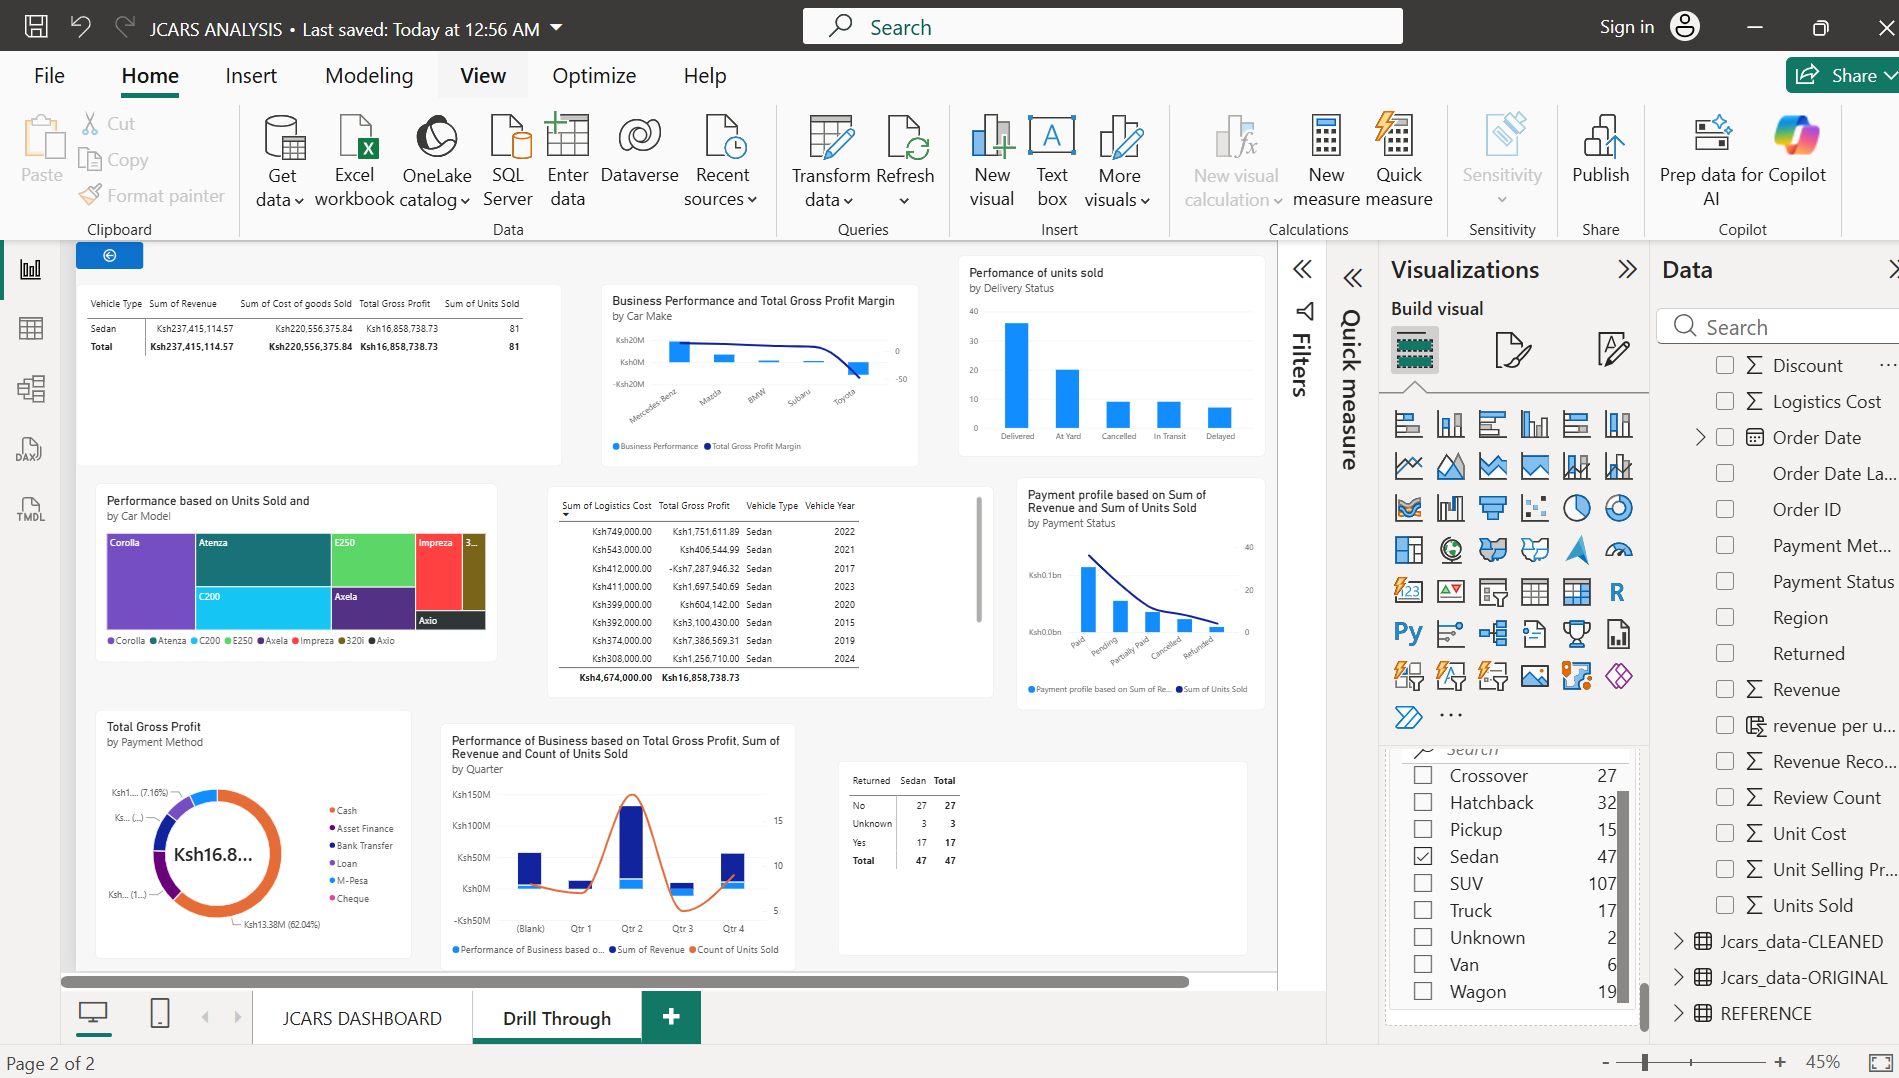

This screenshot's page, from the dashboard's own definition file:
{"tool":"powerbi","page":{"name":"Drill Through","canvas":[1920,1080],"ordinal":1},"visuals":[{"type":"lineStackedColumnComboChart","fields":{"Category":["DIM-VEHICLE.Car Make"],"Y":["DIM-CUSTOMER.Total Gross Profit"],"Y2":["DIM-CUSTOMER.Total Gross Profit Margin"]},"box":[777.8,62.2,471.1,271.1],"z":4000},{"type":"treemap","fields":{"Group":["DIM-VEHICLE.Car Model"],"Values":["Sum(FACT TABLE 2.Units Sold)"]},"box":[28.9,357.8,595.6,264.4],"z":5000},{"type":"pivotTable","fields":{"Rows":["DIM-VEHICLE.Vehicle Type"],"Values":["Sum(FACT TABLE 2.Revenue)","Sum(FACT TABLE 2.Cost of goods Sold)","DIM-CUSTOMER.Total Gross Profit","Sum(FACT TABLE 2.Units Sold)"]},"box":[0,62.2,720,270],"z":6000},{"type":"lineStackedColumnComboChart","fields":{"Category":["FACT TABLE 2.Delivery Date.Variation.Date Hierarchy.Quarter"],"Y":["DIM-CUSTOMER.Total Gross Profit","Sum(FACT TABLE 2.Revenue)"],"Y2":["CountNonNull(FACT TABLE 2.Units Sold)"]},"box":[540,713.3,526.7,366.7],"z":11000},{"type":"donutChart","fields":{"Category":["FACT TABLE 2.Payment Method"],"Y":["DIM-CUSTOMER.Total Gross Profit"]},"box":[28.9,693.3,468.9,368.9],"z":12000},{"type":"lineClusteredColumnComboChart","fields":{"Category":["FACT TABLE 2.Payment Status"],"Y":["Sum(FACT TABLE 2.Revenue)"],"Y2":["Sum(FACT TABLE 2.Units Sold)"]},"box":[1393.3,348.9,368.9,344.4],"z":13000},{"type":"clusteredColumnChart","fields":{"Category":["FACT TABLE 2.Delivery Status"],"Y":["Sum(FACT TABLE 2.Units Sold)"]},"box":[1306.7,20,455.6,297.8],"z":14000},{"type":"pivotTable","fields":{"Rows":["FACT TABLE 2.Returned"],"Columns":["DIM-VEHICLE.Vehicle Type"],"Values":["CountNonNull(FACT TABLE 2.Returned)"]},"box":[1128.9,768.9,606.7,288.9],"z":16000},{"type":"actionButton","box":[0,0,100,40],"z":17000},{"type":"tableEx","fields":{"Values":["Sum(FACT TABLE 2.Logistics Cost)","DIM-CUSTOMER.Total Gross Profit","DIM-VEHICLE.Vehicle Type","DIM-VEHICLE.Vehicle Year"]},"box":[697.8,362.2,662.2,313.3],"z":18000}]}

Visuals, with their boxes on the page's 1920x1080 design canvas (x1, y1, x2, y2). These are canvas units, not pixel positions in the 1899x1078 screenshot, which may show the page scaled, cropped or inside an application window:
lineStackedColumnComboChart - DIM-VEHICLE.Car Make x DIM-CUSTOMER.Total Gross Profit: [778, 62, 1249, 333]
treemap - DIM-VEHICLE.Car Model x Sum(FACT TABLE 2.Units Sold): [29, 358, 624, 622]
pivotTable - DIM-VEHICLE.Vehicle Type x Sum(FACT TABLE 2.Revenue): [0, 62, 720, 332]
lineStackedColumnComboChart - FACT TABLE 2.Delivery Date.Variation.Date Hierarchy.Quarter x DIM-CUSTOMER.Total Gross Profit: [540, 713, 1067, 1080]
donutChart - FACT TABLE 2.Payment Method x DIM-CUSTOMER.Total Gross Profit: [29, 693, 498, 1062]
lineClusteredColumnComboChart - FACT TABLE 2.Payment Status x Sum(FACT TABLE 2.Revenue): [1393, 349, 1762, 693]
clusteredColumnChart - FACT TABLE 2.Delivery Status x Sum(FACT TABLE 2.Units Sold): [1307, 20, 1762, 318]
pivotTable - FACT TABLE 2.Returned x DIM-VEHICLE.Vehicle Type: [1129, 769, 1736, 1058]
actionButton: [0, 0, 100, 40]
tableEx - Sum(FACT TABLE 2.Logistics Cost) x DIM-CUSTOMER.Total Gross Profit: [698, 362, 1360, 676]
